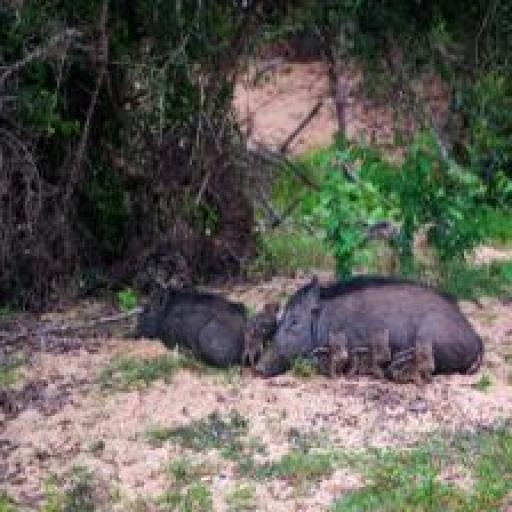Pig: (256, 260, 486, 396), (124, 286, 252, 374)
